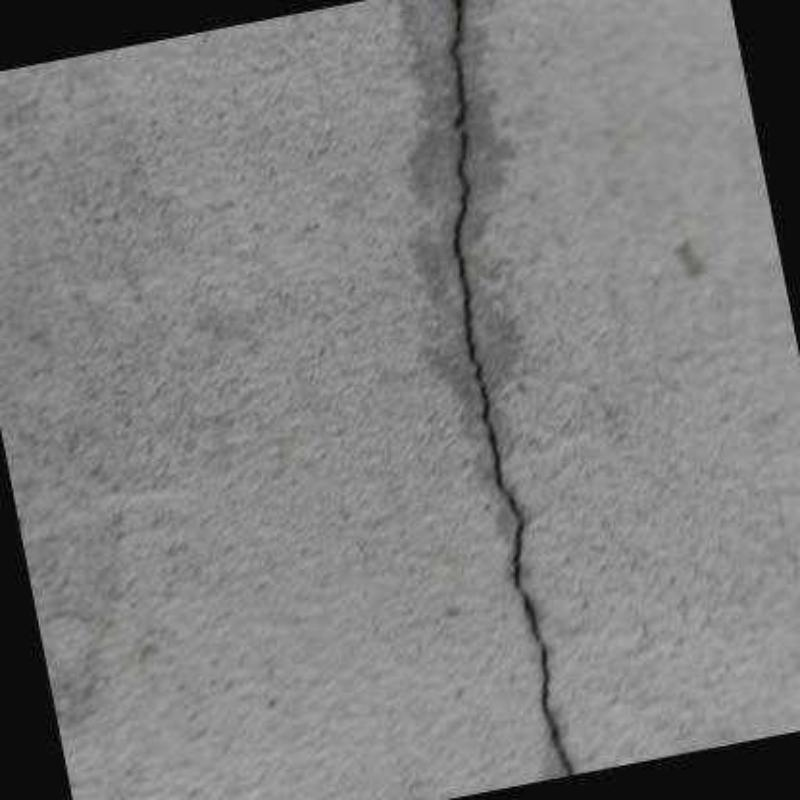crack: (451, 1, 574, 776)
